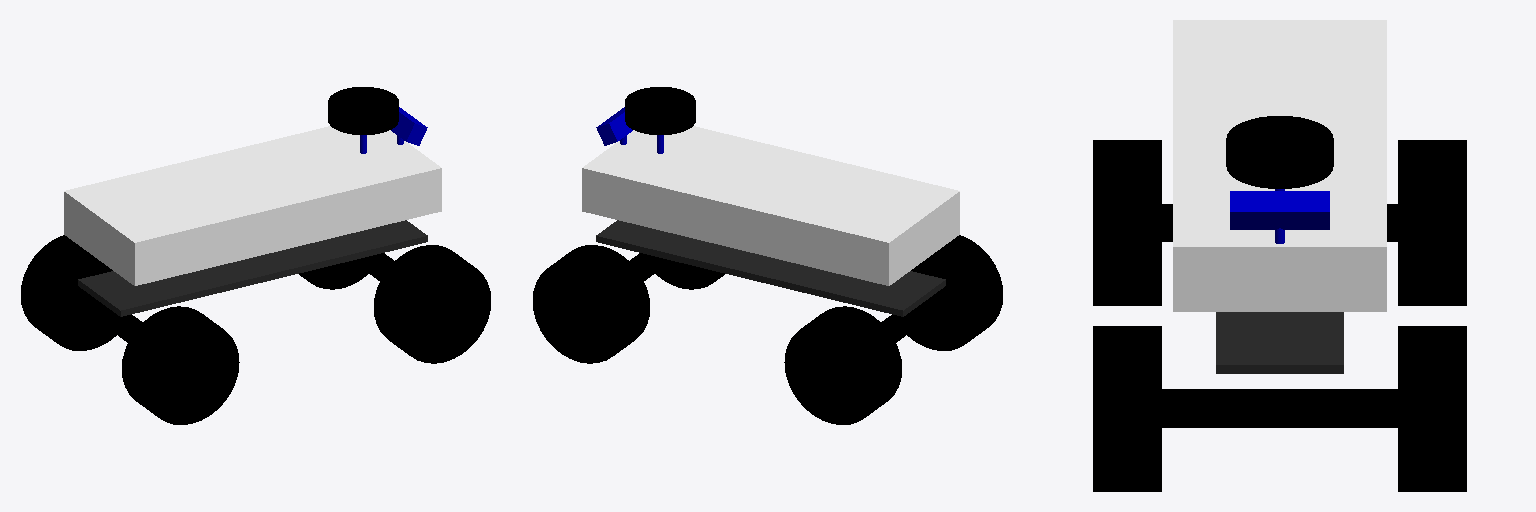
--- What the picture shows (computed from the rendered views, not written in the file) ---
Views: 3 orthographic renders of the robot side by side, from view 1: azimuth 30°, elevation 25°; view 2: azimuth 150°, elevation 25°; view 3: azimuth 270°, elevation 25°.
Robot: vuasrl_car — 16 links, 15 joints (3 revolute, 4 continuous, 8 fixed); root link base_link; default pose: every joint at zero.
Visible links, largest first — view 1: baseplate, front_right_wheel, rear_right_wheel, front_mount, rear_left_wheel, laser_sensor, front_left_wheel, rear_shaft, camera, front_shaft; view 2: baseplate, front_left_wheel, rear_left_wheel, front_mount, rear_right_wheel, laser_sensor, front_right_wheel, rear_shaft, camera, front_shaft; view 3: baseplate, front_right_wheel, front_left_wheel, rear_right_wheel, rear_left_wheel, front_shaft, front_mount, laser_sensor, camera, rear_shaft.
Boxes of the visible links, x1,y1,x2,y2 form: baseplate: (64,126,441,285); front_right_wheel: (374,245,490,363); rear_right_wheel: (122,306,239,424); front_mount: (78,220,427,316); rear_left_wheel: (21,235,116,350); laser_sensor: (328,87,398,134); front_left_wheel: (299,261,368,289); rear_shaft: (80,291,142,342); camera: (391,107,427,145); front_shaft: (352,253,393,280); baseplate: (582,126,959,285); front_left_wheel: (533,245,649,363); rear_left_wheel: (784,306,901,424); front_mount: (596,220,945,316); rear_right_wheel: (907,235,1002,350); laser_sensor: (625,87,695,134); front_right_wheel: (655,261,724,289); rear_shaft: (881,291,943,342); camera: (596,107,632,145); front_shaft: (630,253,671,280); baseplate: (1173,20,1386,311); front_right_wheel: (1093,326,1161,491); front_left_wheel: (1398,326,1466,491); rear_right_wheel: (1093,140,1161,305); rear_left_wheel: (1398,140,1466,305); front_shaft: (1162,389,1397,427); front_mount: (1216,312,1343,373); laser_sensor: (1226,116,1333,188); camera: (1230,191,1329,229); rear_shaft: (1162,204,1397,241).
Size in the robot's own frame: 0.565 by 0.349 by 0.342 metres.
Geometry: primitives only (box / cylinder / sphere), no mesh files.

The robot description file, URDF, robot "vuasrl_car":
<?xml version="1.0" ?>
<robot name="vuasrl_car" xmlns:xacro="http://www.ros.org/wiki/xacro">
  <link name="base_link"/>
  <!-- because origin is in the center, we want the IMU to stand on the baseplate -->
  <link name="baseplate">
    <visual>
      <material name="acrylic"/>
      <origin rpy="0 0 0" xyz="0 0 0.03375"/>
      <!-- origin (0,0,0) is in the center of the box, so place the origin of this in the bottom of baseplate -->
      <geometry>
        <box size="0.5 0.2 0.0675"/>
        <!-- 50x20x6.75 cm, X-axis is front of vehicle -->
      </geometry>
    </visual>
    <collision>
      <origin rpy="0 0 0" xyz="0 0 0.03375"/>
      <!-- origin (0,0,0) is in the center of the box, so place the origin of this in the bottom of baseplate -->
      <geometry>
        <box size="0.5 0.2 0.0675"/>
        <!-- 50x20x6.75 cm, X-axis is front of vehicle -->
      </geometry>
    </collision>
    <inertial>
      <origin rpy="0 0 0" xyz="0 0 0.03375"/>
      <mass value="2.0"/>
      <inertia ixx="0.00371302083333" ixy="0" ixz="0" iyy="0.0212130208333" iyz="0" izz="0.0241666666667"/>
    </inertial>
  </link>
  <joint name="base_link_to_baseplate" type="fixed">
    <parent link="base_link"/>
    <child link="baseplate"/>
    <origin rpy="0 0 0" xyz="0 0 0"/>
    <!-- offset from parent to child, so with direction based in parent frame -->
  </joint>
  <link name="front_mount">
    <visual>
      <material name="grey"/>
      <origin rpy="0 0.0 0" xyz="-0.105 0 0"/>
      <!-- origin (0,0,0) is in the center of the box -->
      <geometry>
        <box size="0.50 0.12 0.01"/>
      </geometry>
    </visual>
    <collision>
      <origin rpy="0 0.0 0" xyz="-0.105 0 0"/>
      <!-- origin (0,0,0) is in the center of the box -->
      <geometry>
        <box size="0.50 0.12 0.01"/>
      </geometry>
    </collision>
    <inertial>
      <origin rpy="0 0.0 0" xyz="-0.105 0 0"/>
      <mass value="0.5"/>
      <inertia ixx="0.000604166666667" ixy="0" ixz="0" iyy="0.00240416666667" iyz="0" izz="0.003"/>
    </inertial>
  </link>
  <joint name="baseplate_to_front_mount" type="fixed">
    <parent link="baseplate"/>
    <child link="front_mount"/>
    <origin rpy="0 0 0" xyz="0.105 0 -0.059"/>
    <!-- offset from parent to child, so with direction based in parent frame -->
  </joint>

  <link name="front_shaft">
    <visual>
      <material name="black"/>
      <origin rpy="1.570796327 0 0" xyz="0 0 0"/>
      <!-- origin (0,0,0) is in the center of the cylinder -->
      <geometry>
        <cylinder length="0.285" radius="0.018"/>
        <!-- confirm length between wheels -->
      </geometry>
    </visual>
    <collision>
      <origin rpy="1.570796327 0 0" xyz="0 0 0"/>
      <!-- origin (0,0,0) is in the center of the cylinder -->
      <geometry>
        <cylinder length="0.285" radius="0.018"/>
        <!-- confirm length between wheels -->
      </geometry>
    </collision>
    <inertial>
      <origin rpy="1.570796327 0 0" xyz="0 0 0"/>
      <mass value="0.1"/>
      <inertia ixx="0.000684975" ixy="0" ixz="0" iyy="0.000684975" iyz="0" izz="1.62e-05"/>
    </inertial>
  </link>
  <joint name="front_mount_to_front_shaft" type="fixed">
    <parent link="front_mount"/>
    <child link="front_shaft"/>
    <origin rpy="0 0 0" xyz="0.105 0 -0.059"/>
    <!-- offset from parent to child, so with direction based in parent frame -->
  </joint>
  <link name="rear_shaft">
    <visual>
      <material name="black"/>
      <origin rpy="1.570796327 0 0" xyz="0 0 0"/>
      <!-- origin (0,0,0) is in the center of the cylinder -->
      <geometry>
        <cylinder length="0.285" radius="0.018"/>
        <!-- confirm length between wheels -->
      </geometry>
    </visual>
    <collision>
      <origin rpy="1.570796327 0 0" xyz="0 0 0"/>
      <!-- origin (0,0,0) is in the center of the cylinder -->
      <geometry>
        <cylinder length="0.285" radius="0.018"/>
        <!-- confirm length between wheels -->
      </geometry>
    </collision>
    <inertial>
      <origin rpy="1.570796327 0 0" xyz="0 0 0"/>
      <mass value="0.1"/>
      <inertia ixx="0.000684975" ixy="0" ixz="0" iyy="0.000684975" iyz="0" izz="1.62e-05"/>
    </inertial>
  </link>
  <joint name="rear_mount_to_rear_shaft" type="fixed">
    <parent link="front_mount"/>
    <child link="rear_shaft"/>
    <origin rpy="0 0 0" xyz="-0.305 0 -0.059"/>
    <!-- offset from parent to child, so with direction based in parent frame -->
  </joint>
  <link name="steering_wheel">
    <visual>
      <material name="white"/>
      <origin rpy="0 0 0" xyz="0 0 0"/>
      <geometry>
        <sphere radius="0.015"/>
      </geometry>
    </visual>
    <collision>
      <origin rpy="0 0 0" xyz="0 0 0"/>
      <geometry>
        <sphere radius="0.015"/>
      </geometry>
    </collision>
    <inertial>
      <origin rpy="0 0 0" xyz="0 0 0"/>
      <mass value="0.05"/>
      <inertia ixx="1e-6" ixy="0" ixz="0" iyy="1e-6" iyz="0" izz="1e-6"/>
    </inertial>
  </link>
  <joint name="steering_joint" type="revolute">
    <parent link="front_shaft"/>
    <child link="steering_wheel"/>
    <origin rpy="0 0 0" xyz="0 0 0"/>
    <axis xyz="0 0 1"/>
    <limit effort="10" lower="-0.349065850399" upper="0.349065850399" velocity="100"/>
    <!-- offset from parent to child, so with direction based in parent frame -->
  </joint>
      
  <link name="front_right_hinge">
    <visual>
      <material name="white"/>
      <origin rpy="0 0 0" xyz="0 0 0"/>
      <geometry>
        <sphere radius="0.015"/>
      </geometry>
    </visual>
    <!--<collision>
			<xacro:hinge_geometry/>
		</collision>-->
    <inertial>
      <origin rpy="0 0 0" xyz="0 0 0"/>
      <mass value="0.05"/>
      <inertia ixx="1e-6" ixy="0" ixz="0" iyy="1e-6" iyz="0" izz="1e-6"/>
      <!-- small inertia -->
    </inertial>
  </link>
  <joint name="front_right_hinge_joint" type="revolute">
    <!-- revolute is a joint with a range limited motion around its' axis -->
    <parent link="front_shaft"/>
    <child link="front_right_hinge"/>
    <origin rpy="0 0 0" xyz="0 -0.1425 0"/>
    <!-- offset from parent to child, so with direction based in parent frame -->
    <axis xyz="0 0 1"/>
    <limit effort="10" lower="-0.349065850399" upper="0.349065850399" velocity="100"/>
    <dynamics friction="5.0" damping="0.1"/>
    <!-- effeort is similar to torque/acceleration -->
    <!-- friction - The physical static friction. For prismatic joints, the units are Newtons. For revolving joints, the units are Newton meters. -->
    <!-- damping - The physical damping value. For prismatic joints, the units are Newton seconds per meter. For revolving joints, Newton meter secons per radian. -->
  </joint>
  <transmission name="front_right_hinge_transmission" type="SimpleTransmission">
    <type>transmission_interface/SimpleTransmission</type>
    <joint name="front_right_hinge_joint">
      <hardwareInterface>hardware_interface/EffortJointInterface</hardwareInterface>
    </joint>
    <actuator name="front_right_hinge_motor">
      <!-- The motor is torque controlled -->
      <hardwareInterface>hardware_interface/EffortJointInterface</hardwareInterface>
      <mechanicalReduction>1</mechanicalReduction>
    </actuator>
  </transmission>
  <link name="front_left_hinge">
    <visual>
      <material name="white"/>
      <origin rpy="0 0 0" xyz="0 0 0"/>
      <geometry>
        <sphere radius="0.015"/>
      </geometry>
    </visual>
    <!--<collision>
			<xacro:hinge_geometry/>
		</collision>-->
    <inertial>
      <origin rpy="0 0 0" xyz="0 0 0"/>
      <mass value="0.05"/>
      <inertia ixx="1e-6" ixy="0" ixz="0" iyy="1e-6" iyz="0" izz="1e-6"/>
      <!-- small inertia -->
    </inertial>
  </link>
  <joint name="front_left_hinge_joint" type="revolute">
    <!-- revolute is a joint with a range limited motion around its' axis -->
    <parent link="front_shaft"/>
    <child link="front_left_hinge"/>
    <origin rpy="0 0 0" xyz="0 0.1425 0"/>
    <!-- offset from parent to child, so with direction based in parent frame -->
    <axis xyz="0 0 1"/>
    <limit effort="10" lower="-0.349065850399" upper="0.349065850399" velocity="100"/>
    <dynamics friction="5.0" damping="0.1"/>
    <!-- effeort is similar to torque/acceleration -->
    <!-- friction - The physical static friction. For prismatic joints, the units are Newtons. For revolving joints, the units are Newton meters. -->
    <!-- damping - The physical damping value. For prismatic joints, the units are Newton seconds per meter. For revolving joints, Newton meter secons per radian. -->
  </joint>
  <transmission name="front_left_hinge_transmission" type="SimpleTransmission">
    <type>transmission_interface/SimpleTransmission</type>
    <joint name="front_left_hinge_joint">
      <hardwareInterface>hardware_interface/EffortJointInterface</hardwareInterface>
    </joint>
    <actuator name="front_left_hinge_motor">
      <!-- The motor is torque controlled -->
      <hardwareInterface>hardware_interface/EffortJointInterface</hardwareInterface>
      <mechanicalReduction>1</mechanicalReduction>
    </actuator>
  </transmission>
  <link name="front_right_wheel">
    <visual>
      <material name="black"/>
      <origin rpy="1.570796327 0 0" xyz="0 0 0"/>
      <!-- origin (0,0,0) is in the center of the cylinder -->
      <geometry>
        <cylinder length="0.064" radius="0.0775"/>
      </geometry>
    </visual>
    <collision>
      <origin rpy="1.570796327 0 0" xyz="0 0 0"/>
      <!-- origin (0,0,0) is in the center of the cylinder -->
      <geometry>
        <cylinder length="0.064" radius="0.0775"/>
      </geometry>
      <!--<contact_coefficients mu="0" kp="1000.0" kd="1.0"/>-->
      <!-- mu=The friction coefficient, kp=Stiffness coefficient, kd=Dampening coefficient -->
    </collision>
    <inertial>
      <origin rpy="1.570796327 0 0" xyz="0 0 0"/>
      <mass value="0.15"/>
      <inertia ixx="0.000276434375" ixy="0" ixz="0" iyy="0.000276434375" iyz="0" izz="0.00045046875"/>
    </inertial>
  </link>
  <joint name="front_right_wheel_joint" type="continuous">
    <!-- continuous is a joint of continous motion around its' axis -->
    <parent link="front_right_hinge"/>
    <child link="front_right_wheel"/>
    <origin rpy="0 0 0" xyz="0 0 0"/>
    <!-- offset from parent to child, so with direction based in parent frame -->
    <axis xyz="0 1 0"/>
    <!-- friction - The physical static friction. For prismatic joints, the units are Newtons. For revolving joints, the units are Newton meters. -->
    <!-- damping - The physical damping value. For prismatic joints, the units are Newton seconds per meter. For revolving joints, Newton meter secons per radian. -->
    <limit effort="10" velocity="100"/>
  </joint>
  <transmission name="front_right_wheel_transmission" type="SimpleTransmission">
    <type>transmission_interface/SimpleTransmission</type>
    <joint name="front_right_wheel_joint">
      <hardwareInterface>hardware_interface/EffortJointInterface</hardwareInterface>
    </joint>
    <actuator name="front_right_wheel_motor">
      <!-- The motor is torque controlled -->
      <hardwareInterface>hardware_interface/EffortJointInterface</hardwareInterface>
      <mechanicalReduction>1</mechanicalReduction>
    </actuator>
  </transmission>
  <link name="front_left_wheel">
    <visual>
      <material name="black"/>
      <origin rpy="1.570796327 0 0" xyz="0 0 0"/>
      <!-- origin (0,0,0) is in the center of the cylinder -->
      <geometry>
        <cylinder length="0.064" radius="0.0775"/>
      </geometry>
    </visual>
    <collision>
      <origin rpy="1.570796327 0 0" xyz="0 0 0"/>
      <!-- origin (0,0,0) is in the center of the cylinder -->
      <geometry>
        <cylinder length="0.064" radius="0.0775"/>
      </geometry>
      <!--<contact_coefficients mu="0" kp="1000.0" kd="1.0"/>-->
      <!-- mu=The friction coefficient, kp=Stiffness coefficient, kd=Dampening coefficient -->
    </collision>
    <inertial>
      <origin rpy="1.570796327 0 0" xyz="0 0 0"/>
      <mass value="0.15"/>
      <inertia ixx="0.000276434375" ixy="0" ixz="0" iyy="0.000276434375" iyz="0" izz="0.00045046875"/>
    </inertial>
  </link>
  <joint name="front_left_wheel_joint" type="continuous">
    <!-- continuous is a joint of continous motion around its' axis -->
    <parent link="front_left_hinge"/>
    <child link="front_left_wheel"/>
    <origin rpy="0 0 0" xyz="0 0 0"/>
    <!-- offset from parent to child, so with direction based in parent frame -->
    <axis xyz="0 1 0"/>
    <!-- friction - The physical static friction. For prismatic joints, the units are Newtons. For revolving joints, the units are Newton meters. -->
    <!-- damping - The physical damping value. For prismatic joints, the units are Newton seconds per meter. For revolving joints, Newton meter secons per radian. -->
    <limit effort="10" velocity="100"/>
  </joint>
  <transmission name="front_left_wheel_transmission" type="SimpleTransmission">
    <type>transmission_interface/SimpleTransmission</type>
    <joint name="front_left_wheel_joint">
      <hardwareInterface>hardware_interface/EffortJointInterface</hardwareInterface>
    </joint>
    <actuator name="front_left_wheel_motor">
      <!-- The motor is torque controlled -->
      <hardwareInterface>hardware_interface/EffortJointInterface</hardwareInterface>
      <mechanicalReduction>1</mechanicalReduction>
    </actuator>
  </transmission>
  <link name="rear_right_wheel">
    <visual>
      <material name="black"/>
      <origin rpy="1.570796327 0 0" xyz="0 0 0"/>
      <!-- origin (0,0,0) is in the center of the cylinder -->
      <geometry>
        <cylinder length="0.064" radius="0.0775"/>
      </geometry>
    </visual>
    <collision>
      <origin rpy="1.570796327 0 0" xyz="0 0 0"/>
      <!-- origin (0,0,0) is in the center of the cylinder -->
      <geometry>
        <cylinder length="0.064" radius="0.0775"/>
      </geometry>
      <!--<contact_coefficients mu="0" kp="1000.0" kd="1.0"/>-->
      <!-- mu=The friction coefficient, kp=Stiffness coefficient, kd=Dampening coefficient -->
    </collision>
    <inertial>
      <origin rpy="1.570796327 0 0" xyz="0 0 0"/>
      <mass value="0.15"/>
      <inertia ixx="0.000276434375" ixy="0" ixz="0" iyy="0.000276434375" iyz="0" izz="0.00045046875"/>
    </inertial>
  </link>
  <joint name="rear_right_wheel_joint" type="continuous">
    <!-- continuous is a joint of continous motion around its' axis -->
    <parent link="rear_shaft"/>
    <child link="rear_right_wheel"/>
    <origin rpy="0 0 0" xyz="0 -0.1425 0"/>
    <!-- offset from parent to child, so with direction based in parent frame -->
    <axis xyz="0 1 0"/>
    <dynamics friction="0.0" damping="0.2"/>
    <!-- friction - The physical static friction. For prismatic joints, the units are Newtons. For revolving joints, the units are Newton meters. -->
    <!-- damping - The physical damping value. For prismatic joints, the units are Newton seconds per meter. For revolving joints, Newton meter secons per radian. -->
    <limit effort="10" velocity="100"/>
  </joint>
  <transmission name="rear_right_wheel_transmission" type="SimpleTransmission">
    <type>transmission_interface/SimpleTransmission</type>
    <joint name="rear_right_wheel_joint">
      <hardwareInterface>hardware_interface/EffortJointInterface</hardwareInterface>
    </joint>
    <actuator name="rear_right_wheel_motor">
      <!-- The motor is torque controlled -->
      <hardwareInterface>hardware_interface/EffortJointInterface</hardwareInterface>
      <mechanicalReduction>1</mechanicalReduction>
    </actuator>
  </transmission>
  <link name="rear_left_wheel">
    <visual>
      <material name="black"/>
      <origin rpy="1.570796327 0 0" xyz="0 0 0"/>
      <!-- origin (0,0,0) is in the center of the cylinder -->
      <geometry>
        <cylinder length="0.064" radius="0.0775"/>
      </geometry>
    </visual>
    <collision>
      <origin rpy="1.570796327 0 0" xyz="0 0 0"/>
      <!-- origin (0,0,0) is in the center of the cylinder -->
      <geometry>
        <cylinder length="0.064" radius="0.0775"/>
      </geometry>
      <!--<contact_coefficients mu="0" kp="1000.0" kd="1.0"/>-->
      <!-- mu=The friction coefficient, kp=Stiffness coefficient, kd=Dampening coefficient -->
    </collision>
    <inertial>
      <origin rpy="1.570796327 0 0" xyz="0 0 0"/>
      <mass value="0.15"/>
      <inertia ixx="0.000276434375" ixy="0" ixz="0" iyy="0.000276434375" iyz="0" izz="0.00045046875"/>
    </inertial>
  </link>
  <joint name="rear_left_wheel_joint" type="continuous">
    <!-- continuous is a joint of continous motion around its' axis -->
    <parent link="rear_shaft"/>
    <child link="rear_left_wheel"/>
    <origin rpy="0 0 0" xyz="0 0.1425 0"/>
    <!-- offset from parent to child, so with direction based in parent frame -->
    <axis xyz="0 1 0"/>
    <dynamics friction="0.0" damping="0.2"/>
    <!-- friction - The physical static friction. For prismatic joints, the units are Newtons. For revolving joints, the units are Newton meters. -->
    <!-- damping - The physical damping value. For prismatic joints, the units are Newton seconds per meter. For revolving joints, Newton meter secons per radian. -->
    <limit effort="10" velocity="100"/>
  </joint>
  <transmission name="rear_left_wheel_transmission" type="SimpleTransmission">
    <type>transmission_interface/SimpleTransmission</type>
    <joint name="rear_left_wheel_joint">
      <hardwareInterface>hardware_interface/EffortJointInterface</hardwareInterface>
    </joint>
    <actuator name="rear_left_wheel_motor">
      <!-- The motor is torque controlled -->
      <hardwareInterface>hardware_interface/EffortJointInterface</hardwareInterface>
      <mechanicalReduction>1</mechanicalReduction>
    </actuator>
  </transmission>
  <!-- Sensors -->
  <link name="laser_sensor_mount">
    <visual>
      <material name="blue"/>
      <origin rpy="0 0 0" xyz="0 0 0.025"/>
      <!-- origin (0,0,0) is in the center of the box -->
      <geometry>
        <cylinder length="0.05" radius="0.005"/>
        <!-- confirm length between wheels -->
      </geometry>
    </visual>
    <collision>
      <origin rpy="0 0 0" xyz="0 0 0.025"/>
      <!-- origin (0,0,0) is in the center of the box -->
      <geometry>
        <cylinder length="0.05" radius="0.005"/>
        <!-- confirm length between wheels -->
      </geometry>
    </collision>
    <inertial>
      <origin rpy="0 0 0" xyz="0 0 0"/>
      <!-- origin (0,0,0) is in the center of the box -->
      <mass value="0.005"/>
      <!-- 5 grams -->
      <inertia ixx="1e-6" ixy="0" ixz="0" iyy="1e-6" iyz="0" izz="1e-6"/>
      <!-- small inertia -->
    </inertial>
  </link>
  <joint name="baseplate_to_laser_sensor_mount" type="fixed">
    <parent link="baseplate"/>
    <child link="laser_sensor_mount"/>
    <origin rpy="0 0 0" xyz="0.18 0.00 0.0675"/>
    <!-- offset from parent to child, so with direction based in parent frame -->
  </joint>
  <link name="laser_sensor">
    <visual>
      <material name="black"/>
      <origin rpy="0 0 0" xyz="0 0 0"/>
      <!-- origin (0,0,0) is in the center of the box -->
      <geometry>
        <cylinder length="0.029" radius="0.05"/>
      </geometry>
    </visual>
    <collision>
      <origin rpy="0 0 0" xyz="0 0 0"/>
      <!-- origin (0,0,0) is in the center of the box -->
      <geometry>
        <cylinder length="0.029" radius="0.05"/>
      </geometry>
    </collision>
    <inertial>
      <origin rpy="0 0 0" xyz="0 0 0"/>
      <mass value="0.162"/>
      <inertia ixx="0.0001306395" ixy="0" ixz="0" iyy="1.91295e-05" iyz="0" izz="0.000127062"/>
    </inertial>
  </link>
  <joint name="laser_sensor_mount_to_laser_sensor" type="fixed">
    <parent link="laser_sensor_mount"/>
    <child link="laser_sensor"/>
    <origin rpy="0 0 0" xyz="0 0 0.0645"/>
    <!-- offset from parent to child, so with direction based in parent frame -->
  </joint>
  <link name="camera_mount">
    <visual>
      <material name="blue"/>
      <origin rpy="0 0 0" xyz="0 0 0.025"/>
      <!-- origin (0,0,0) is in the center of the box -->
      <geometry>
        <cylinder length="0.05" radius="0.005"/>
        <!-- confirm length between wheels -->
      </geometry>
    </visual>
    <collision>
      <origin rpy="0 0 0" xyz="0 0 0.025"/>
      <!-- origin (0,0,0) is in the center of the box -->
      <geometry>
        <cylinder length="0.05" radius="0.005"/>
        <!-- confirm length between wheels -->
      </geometry>
    </collision>
    <inertial>
      <origin rpy="0 0 0" xyz="0 0 0"/>
      <!-- origin (0,0,0) is in the center of the box -->
      <mass value="0.005"/>
      <!-- 5 grams -->
      <inertia ixx="1e-6" ixy="0" ixz="0" iyy="1e-6" iyz="0" izz="1e-6"/>
      <!-- small inertia -->
    </inertial>
  </link>
  <joint name="baseplate_to_camera_mount" type="fixed">
    <parent link="baseplate"/>
    <child link="camera_mount"/>
    <origin rpy="0 0 0" xyz="0.24 0.00 0.0355"/>
    <!-- offset from parent to child, so with direction based in parent frame -->
  </joint>
  <link name="camera">
    <visual>
      <material name="blue"/>
      <origin rpy="0 0 0" xyz="0 0 0"/>
      <!-- origin (0,0,0) is in the center of the box -->
      <geometry>
        <box size="0.024 0.094 0.029"/>
      </geometry>
    </visual>
    <collision>
      <origin rpy="0 0 0" xyz="0 0 0"/>
      <!-- origin (0,0,0) is in the center of the box -->
      <geometry>
        <box size="0.024 0.094 0.029"/>
      </geometry>
    </collision>
    <inertial>
      <origin rpy="0 0 0" xyz="0 0 0"/>
      <mass value="0.162"/>
      <inertia ixx="0.0001306395" ixy="0" ixz="0" iyy="1.91295e-05" iyz="0" izz="0.000127062"/>
    </inertial>
  </link>
  <joint name="camera_mount_to_camera" type="fixed">
    <parent link="camera_mount"/>
    <child link="camera"/>
    <origin rpy="0 0.5 0" xyz="0 0 0.0645"/>
    <!-- offset from parent to child, so with direction based in parent frame -->
  </joint>

<!-- hokuyo -->
  <gazebo reference="laser_sensor">
    <sensor type="ray" name="head_hokuyo_sensor">
      <pose>0 0 0 0 0 0</pose>
      <visualize>true</visualize>
      <update_rate>40</update_rate>
      <ray>
        <scan>
          <horizontal>
            <samples>720</samples>
            <resolution>1</resolution>
            <min_angle>-1.570796</min_angle>
            <max_angle>1.570796</max_angle>
          </horizontal>
        </scan>
        <range>
          <min>0.5</min>
          <max>4.0</max>
          <resolution>0.01</resolution>
        </range>
        <noise>
          <type>gaussian</type>
          <!-- Noise parameters based on published spec for Hokuyo laser
               achieving "+-30mm" accuracy at range < 10m.  A mean of 0.0m and
               stddev of 0.01m will put 99.7% of samples within 0.03m of the true
               reading. -->
          <mean>0.0</mean>
          <stddev>0.01</stddev>
        </noise>
      </ray>
      <plugin name="gazebo_ros_head_hokuyo_controller" filename="libgazebo_ros_ray_sensor.so">
        <ros>
          <namespace>/vuasrl_car</namespace>
          <remapping>~/out:=/scan</remapping>
        </ros>
        <output_type>sensor_msgs/LaserScan</output_type>
      </plugin>
    </sensor>
  </gazebo>
  
  <!-- camera -->
  <gazebo reference="camera">
    <sensor type="camera" name="camera_sensor">
    <!-- Set always_on only sensor, not on plugin -->
    <always_on>true</always_on>
    <!-- Set update_rate only sensor, not on plugin -->
    <update_rate>15</update_rate>
     <camera name="camera">
      <horizontal_fov>1.2</horizontal_fov>
      <image>
        <width>640</width>
        <height>480</height>
        <format>R8G8B8</format>
      </image>
      <clip>
        <near>0.02</near>
        <far>300</far>
      </clip>
      <distortion>
        <k1>0.0</k1>
        <k2>0.0</k2>
        <k3>0.0</k3>
        <p1>0.0</p1>
        <p2>0.0</p2>
        <center>0.5 0.5</center>
       </distortion>
      </camera>
    <plugin name="camera_sensor" filename="libgazebo_ros_camera.so">
      <ros>
        <namespace>/vuasrl_car</namespace>
        <remapping>camera/image_raw:=/vuasrl_car/camera/rgb/image_raw</remapping>
        <remapping>camera/camera_info:=/vuasrl_car/camera/rgb/camera_info</remapping>
      </ros>    
      <!-- Set camera name. If empty, defaults to sensor name (i.e. "sensor_name") -->
      <camera_name></camera_name>
      <!-- Set TF frame name. If empty, defaults to link name (i.e. "link_name") -->
      <frame_name>camera</frame_name>
      <hack_baseline>0.07</hack_baseline>
      <!-- No need to repeat distortion parameters or to set autoDistortion -->
    </plugin>   
    </sensor>
  </gazebo>
  
  <gazebo>   
  <plugin name="joint_states" filename="libgazebo_ros_joint_state_publisher.so">  
    <joint_name>front_left_hinge_joint</joint_name>
    <joint_name>front_right_hinge_joint</joint_name> 
    <joint_name>front_left_wheel_joint</joint_name>
    <joint_name>front_right_wheel_joint</joint_name> 
    <joint_name>rear_right_wheel_joint</joint_name>
    <joint_name>rear_left_wheel_joint</joint_name>  
  </plugin>
  
  <plugin name="ackermann_drive" filename="libgazebo_ros_ackermann_drive.so">
     <ros>
       <namespace>/vuasrl_car</namespace>
       <remapping>cmd_vel:=cmd_vel</remapping>
       <remapping>odom:=odom</remapping>
       <remapping>distance:=distance</remapping>
     </ros>
    <update_rate>100</update_rate>
    
    <!-- Name of left, right joint, defaults to `left_joint` --> 
    <front_left_joint>front_left_wheel_joint</front_left_joint>
    <front_right_joint>front_right_wheel_joint</front_right_joint>
    <rear_left_joint>rear_left_wheel_joint</rear_left_joint>
    <rear_right_joint>rear_right_wheel_joint</rear_right_joint>
    
    <left_steering_joint>front_left_hinge_joint</left_steering_joint>
    <right_steering_joint>front_right_hinge_joint</right_steering_joint>
    <steering_wheel_joint>steering_joint</steering_wheel_joint>

    <!-- Max absolute steer angle for tyre in radians-->
    <!-- Any cmd_vel angular z greater than this would be capped -->
    <max_steer>0.6458</max_steer>
    <!-- Max absolute steering angle of steering wheel -->
    <max_steering_angle>7.85</max_steering_angle>
    <!-- Max absolute linear speed in m/s -->
    <max_speed>10</max_speed>

    <!-- PID tuning -->
    <left_steering_pid_gain>1500 0 1</left_steering_pid_gain>
    <left_steering_i_range>0 0</left_steering_i_range>
    <right_steering_pid_gain>1500 0 1</right_steering_pid_gain>
    <right_steering_i_range>0 0</right_steering_i_range>
    <linear_velocity_pid_gain>1000 0 1</linear_velocity_pid_gain>
    <linear_velocity_i_range>0 0</linear_velocity_i_range>
    
    <!-- output -->
    <publish_distance>true</publish_distance>
    <publish_wheel_tF>true</publish_wheel_tF>
    <publish_odom>true</publish_odom>
    <publish_odom_tf>true</publish_odom_tf>
    
    <!-- Odometry frame, defaults to `odom` -->
    <!-- Robot frame to calculate odometry from, defaults to `base_footprint` -->
    <odometry_frame>odom</odometry_frame>
    <robot_base_frame>base_link</robot_base_frame>
    
  </plugin>    
  </gazebo> 
  <!-- Plugins, eg. sensors -->
  <!-- hokuyo LiDAR can be found here: https://github.com/mit-racecar/racecar-simulator/blob/master/racecar_description/urdf/racecar.gazebo#L59 -->
  <!-- camera sensor might be found here: https://github.com/JoshMarino/gazebo_and_ros_control or here: http://gazebosim.org/tutorials?tut=ros_gzplugins -->
  <material name="black">
    <color rgba="0.0 0.0 0.0 1.0"/>
  </material>
  <material name="blue">
    <color rgba="0.0 0.0 0.8 1.0"/>
  </material>
  <material name="green">
    <color rgba="0.0 0.8 0.0 1.0"/>
  </material>
  <material name="grey">
    <color rgba="0.2 0.2 0.2 1.0"/>
  </material>
  <material name="orange">
    <color rgba="1.0 0.423529411765 0.0392156862745 1.0"/>
  </material>
  <material name="brown">
    <color rgba="0.870588235294 0.811764705882 0.764705882353 1.0"/>
  </material>
  <material name="red">
    <color rgba="0.8 0.0 0.0 1.0"/>
  </material>
  <material name="white">
    <color rgba="1.0 1.0 1.0 1.0"/>
  </material>
  <material name="acrylic">
    <color rgba="1.0 1.0 1.0 0.4"/>
  </material>
</robot>
